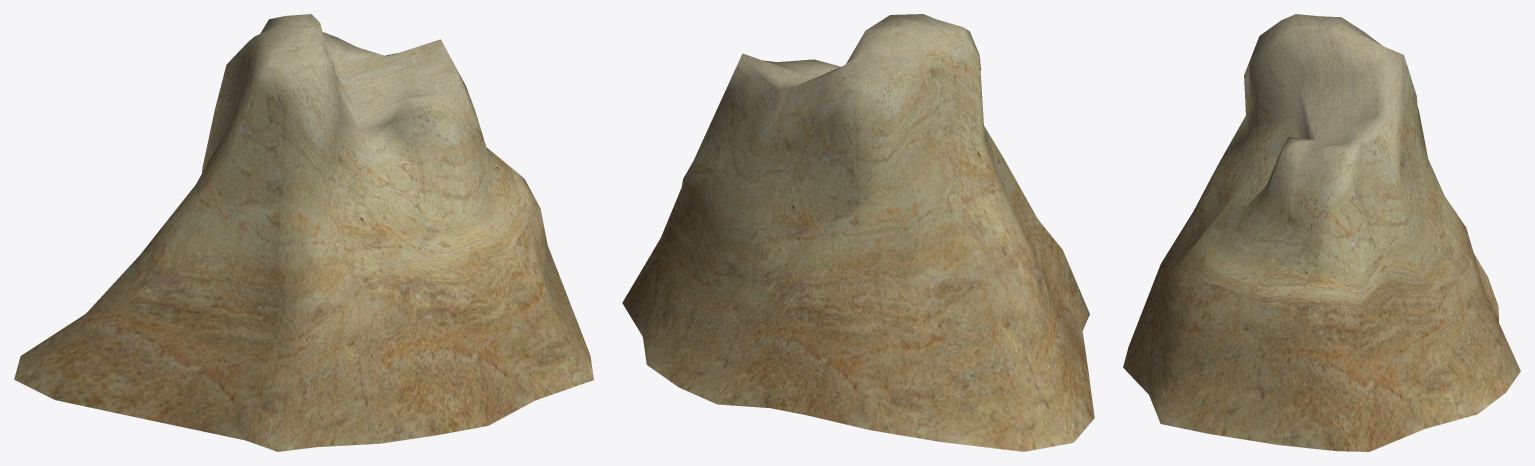
Rendered from rock_beach_spike_a1_l0.fbx.
3 renders of one model, left to right at view 1: azimuth 30°, elevation 25°; view 2: azimuth 150°, elevation 25°; view 3: azimuth 270°, elevation 25°, orthographic. The views are drawn at different scales.
Parts seen in each view (by area): view 1: mesh_node; view 2: mesh_node; view 3: mesh_node.
Boxes of the visible parts, x1,y1,x2,y2 form: mesh_node: (14,14,593,451); mesh_node: (622,14,1094,451); mesh_node: (1123,14,1520,451).
Size of the model in its own units: 7.56 by 4.92 by 5.72.
